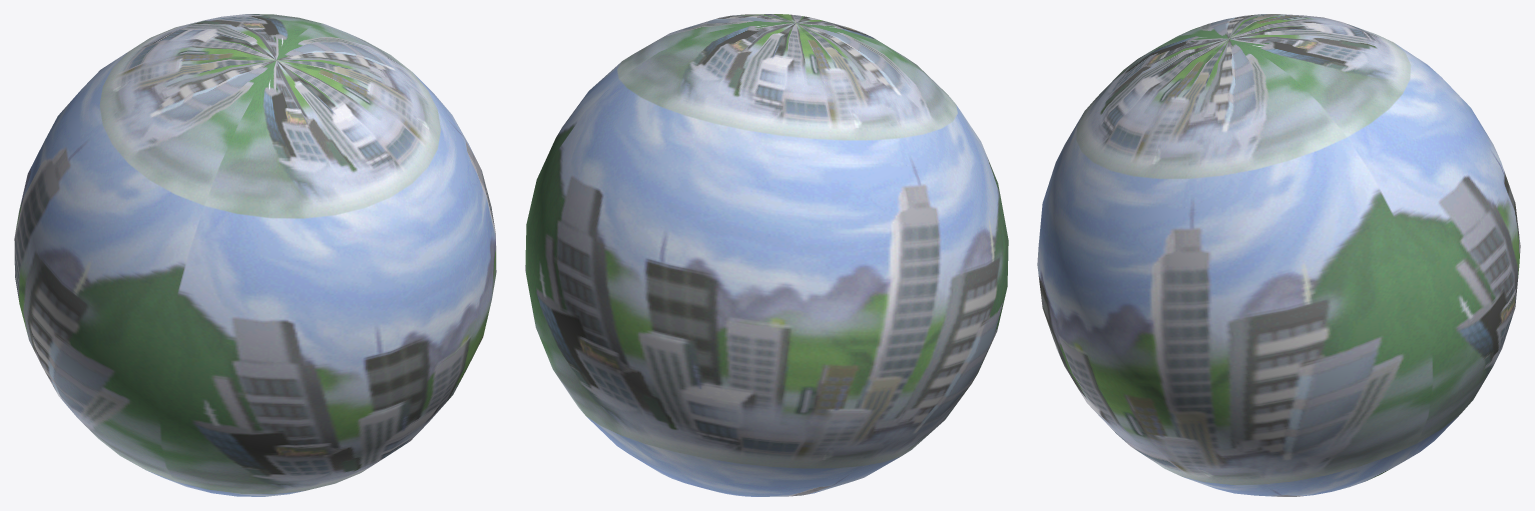
The model's file is Smash64RemixSaffronCityOmega.glb.
3 renders of one model, left to right at view 1: azimuth 30°, elevation 25°; view 2: azimuth 150°, elevation 25°; view 3: azimuth 270°, elevation 25°, orthographic.
Visible parts, largest first — view 1: Sphere; view 2: Sphere; view 3: Sphere.
Part boxes in pixels (left/top/right/bottom): Sphere: left=14, top=14, right=496, bottom=496; Sphere: left=525, top=14, right=1008, bottom=496; Sphere: left=1037, top=14, right=1520, bottom=496.
Bounding box in the file's own units: 77.07 × 77.3 × 77.11.
Materials: 21 (21 with a texture image).
